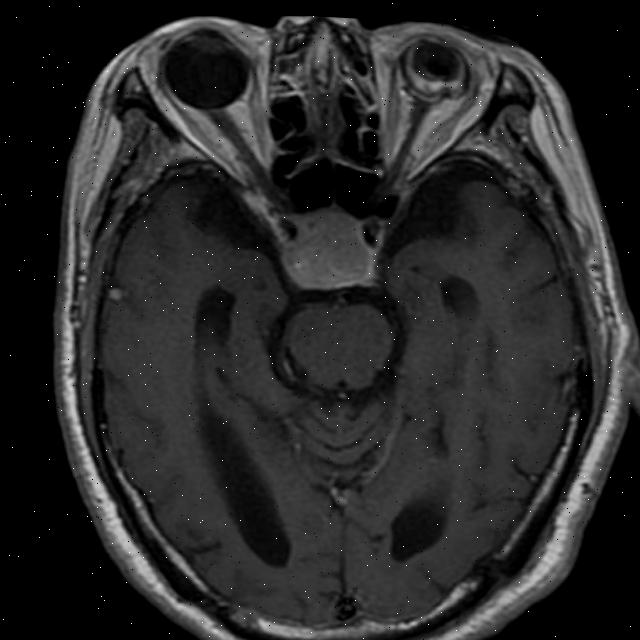Pituitary: (295, 198, 374, 294)
